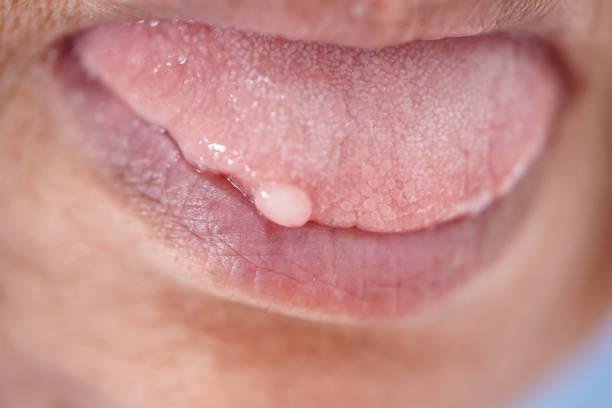Ulcer: (229, 168, 323, 247)
